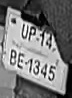1: (39, 30, 45, 50), (28, 58, 34, 76)
3: (33, 58, 41, 76)
4: (46, 34, 54, 52), (41, 61, 48, 81)
5: (48, 63, 55, 83)
B: (9, 48, 16, 70)
E: (17, 51, 24, 72)
P: (28, 25, 37, 47)
U: (19, 20, 29, 43)
